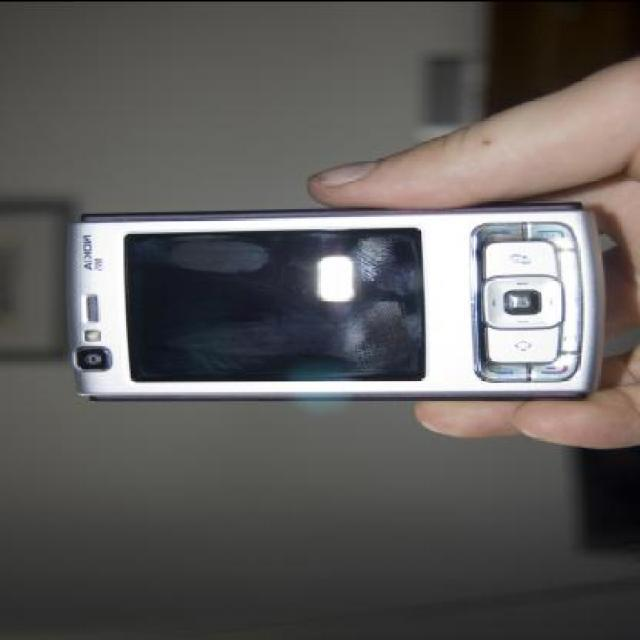phone: (60, 210, 604, 398)
